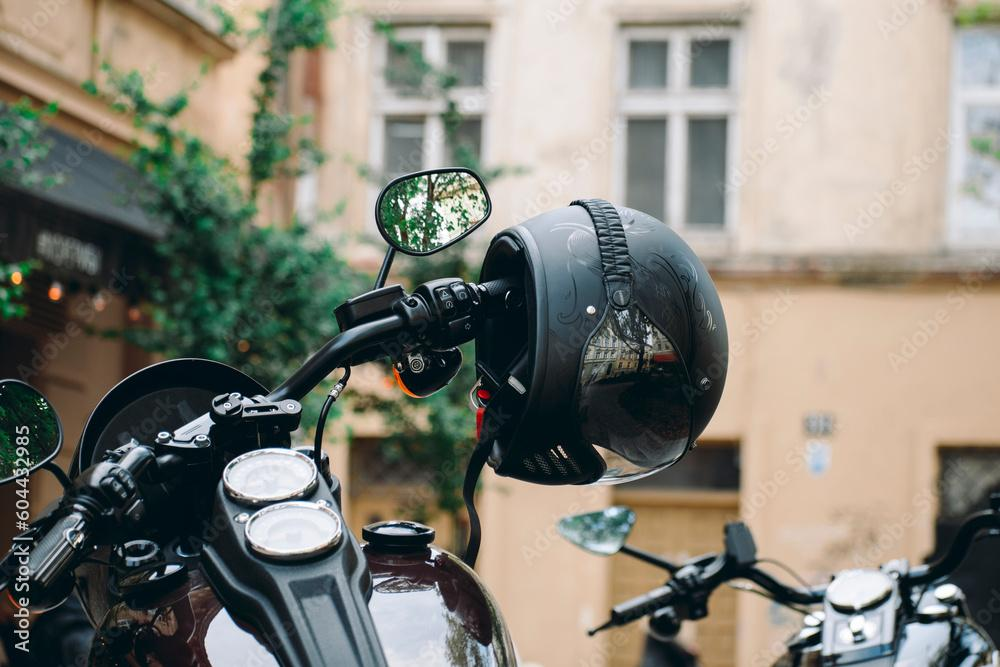helmet: (473, 196, 730, 487)
